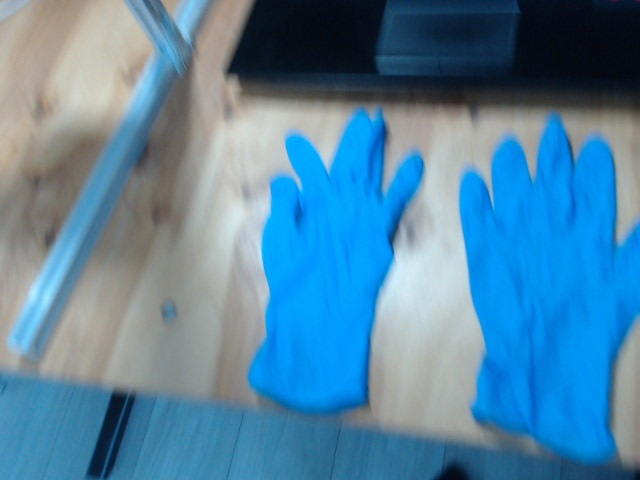medical_glove: (459, 115, 632, 462), (257, 110, 425, 410)
